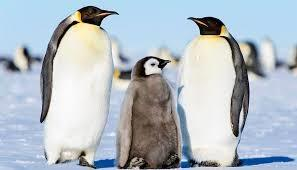emporer: (36, 0, 113, 168), (171, 7, 251, 168)
